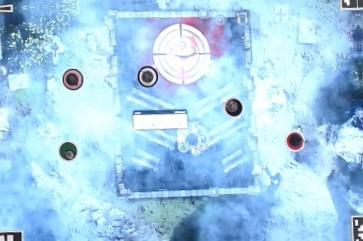black: (219, 97, 244, 121)
green: (54, 139, 78, 163)
pink_green: (61, 67, 85, 91)
red: (281, 131, 305, 155)
white: (135, 65, 159, 89)
